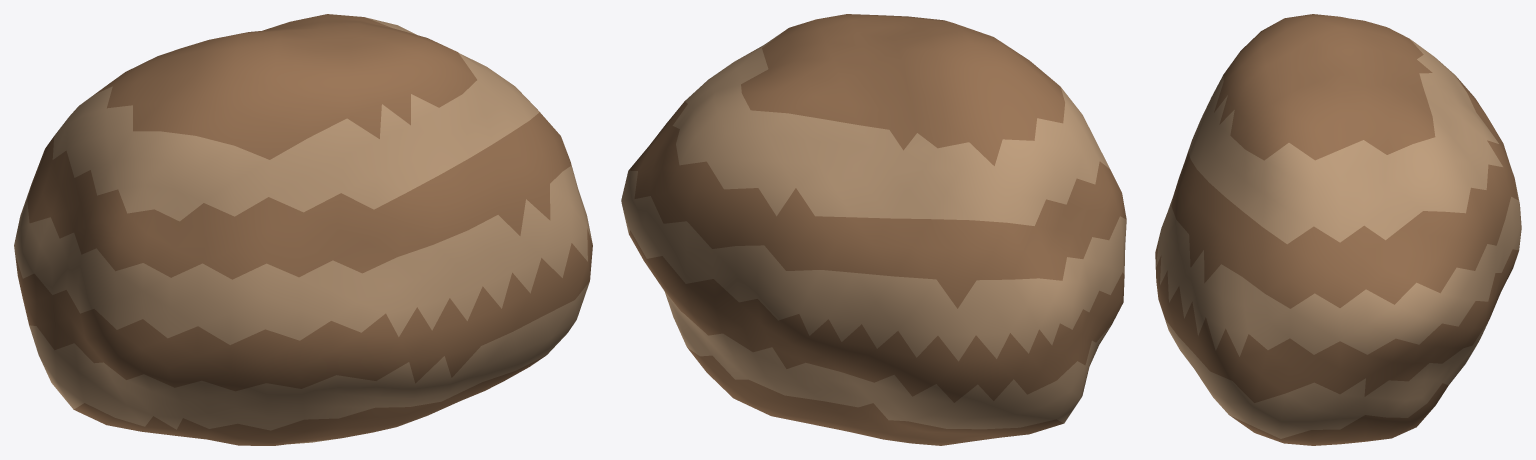
The model's file is sandstone_rock_2.glb.
The picture shows the model from 3 angles, left to right: view 1: azimuth 30°, elevation 25°; view 2: azimuth 150°, elevation 25°; view 3: azimuth 270°, elevation 25°; orthographic projection. The views are drawn at different scales.
Parts seen in each view (by area): view 1: sandstone_rock_2; view 2: sandstone_rock_2; view 3: sandstone_rock_2.
Part boxes in pixels (<box>): sandstone_rock_2: <box>14,14,592,445</box>; sandstone_rock_2: <box>621,14,1126,445</box>; sandstone_rock_2: <box>1155,14,1521,445</box>.
Size of the model in its own units: 2.02 by 1.6 by 1.52.
